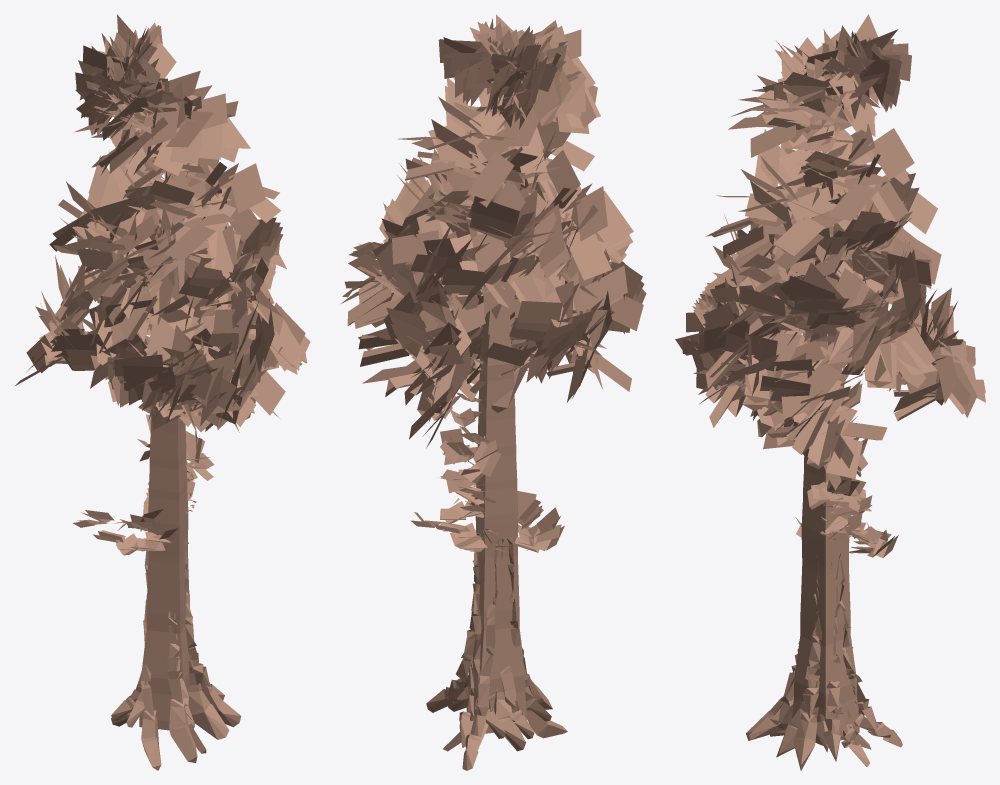
Rendered from sequoia_lowpoly.dae.
3 views of the same model, side by side, from view 1: azimuth 30°, elevation 25°; view 2: azimuth 150°, elevation 25°; view 3: azimuth 270°, elevation 25° (orthographic). The views are drawn at different scales.
Parts seen in each view (by area): view 1: Sequoia5; view 2: Sequoia5; view 3: Sequoia5.
Boxes of the visible parts, bbox=[...] form: Sequoia5: bbox=[15, 14, 310, 770]; Sequoia5: bbox=[341, 14, 646, 770]; Sequoia5: bbox=[675, 14, 985, 770].
Bounding box in the file's own units: 3.74 × 3.66 × 9.34.
